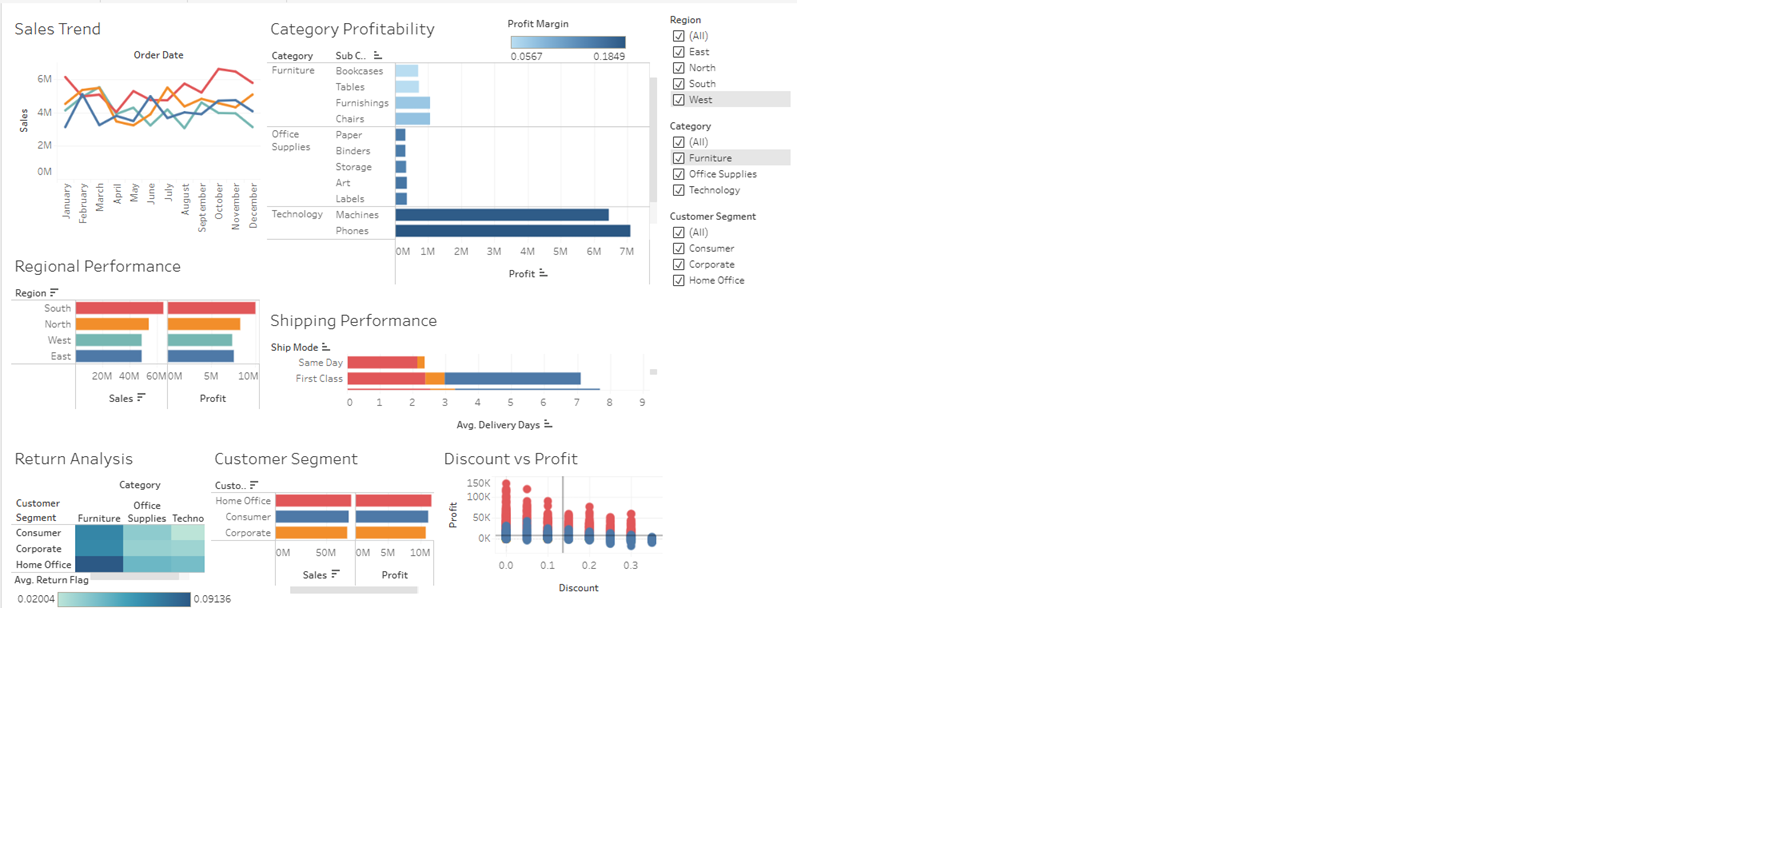

The page's visual inventory and layout, read from the dashboard file:
{"tool":"tableau","page":{"name":"Dashboard 1","canvas":[1000,800],"ordinal":0},"visuals":[{"type":"title","box":[8,8,984,42]},{"type":"worksheet","title":"Sales Trend","mark":"Automatic","rows":["sales"],"cols":["order_date"],"box":[8,50,320,297.2]},{"type":"worksheet","title":"Category Profitability","mark":"Automatic","rows":["category","sub_category"],"cols":["profit"],"box":[328,50,504,350]},{"type":"filter","title":"Regional Performance","param":"[federated.1frxbha0yd1u0g1f1k9s11smq9t6].[none:region:nk]","box":[832,50,160,133]},{"type":"legend","title":"Category Profitability","param":"[federated.1frxbha0yd1u0g1f1k9s11smq9t6].[usr:Calculation_0001048332861494:qk]","box":[633,60,152,79]},{"type":"filter","title":"Category Profitability","param":"[federated.1frxbha0yd1u0g1f1k9s11smq9t6].[none:category:nk]","box":[832,183,160,113]},{"type":"filter","title":"Customer Segment","param":"[federated.1frxbha0yd1u0g1f1k9s11smq9t6].[none:customer_segment:nk]","box":[832,296,160,113]},{"type":"worksheet","title":"Regional Performance","mark":"Automatic","rows":["region"],"cols":["sales","profit"],"box":[8,347.2,320,240.8]},{"type":"worksheet","title":"Shipping Performance","mark":"Automatic","rows":["ship_mode"],"cols":["delivery_days"],"box":[328,415.1,504,172.9]},{"type":"worksheet","title":"Return Analysis","mark":"Automatic","rows":["customer_segment"],"cols":["category"],"box":[8,588,249.5,204]},{"type":"worksheet","title":"Customer Segment","mark":"Automatic","rows":["customer_segment"],"cols":["sales","profit"],"box":[257.5,588,287.2,204]},{"type":"worksheet","title":"Discount vs Profit","mark":"Circle","rows":["profit"],"cols":["discount"],"box":[544.8,588,287.2,204]}]}

Visuals, with their boxes on the page's 1000x800 design canvas (x1, y1, x2, y2). These are canvas units, not pixel positions in the 1769x858 screenshot, which may show the page scaled, cropped or inside an application window:
title: 8,8,992,50
"Sales Trend" worksheet: 8,50,328,347
"Category Profitability" worksheet: 328,50,832,400
"Regional Performance" filter: 832,50,992,183
"Category Profitability" legend: 633,60,785,139
"Category Profitability" filter: 832,183,992,296
"Customer Segment" filter: 832,296,992,409
"Regional Performance" worksheet: 8,347,328,588
"Shipping Performance" worksheet: 328,415,832,588
"Return Analysis" worksheet: 8,588,258,792
"Customer Segment" worksheet: 258,588,545,792
"Discount vs Profit" worksheet (Circle marks): 545,588,832,792
